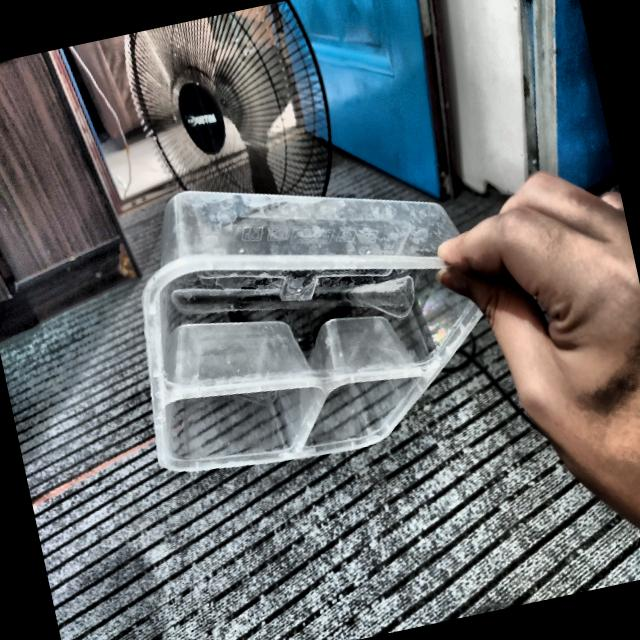plastic container: (142, 190, 480, 471)
